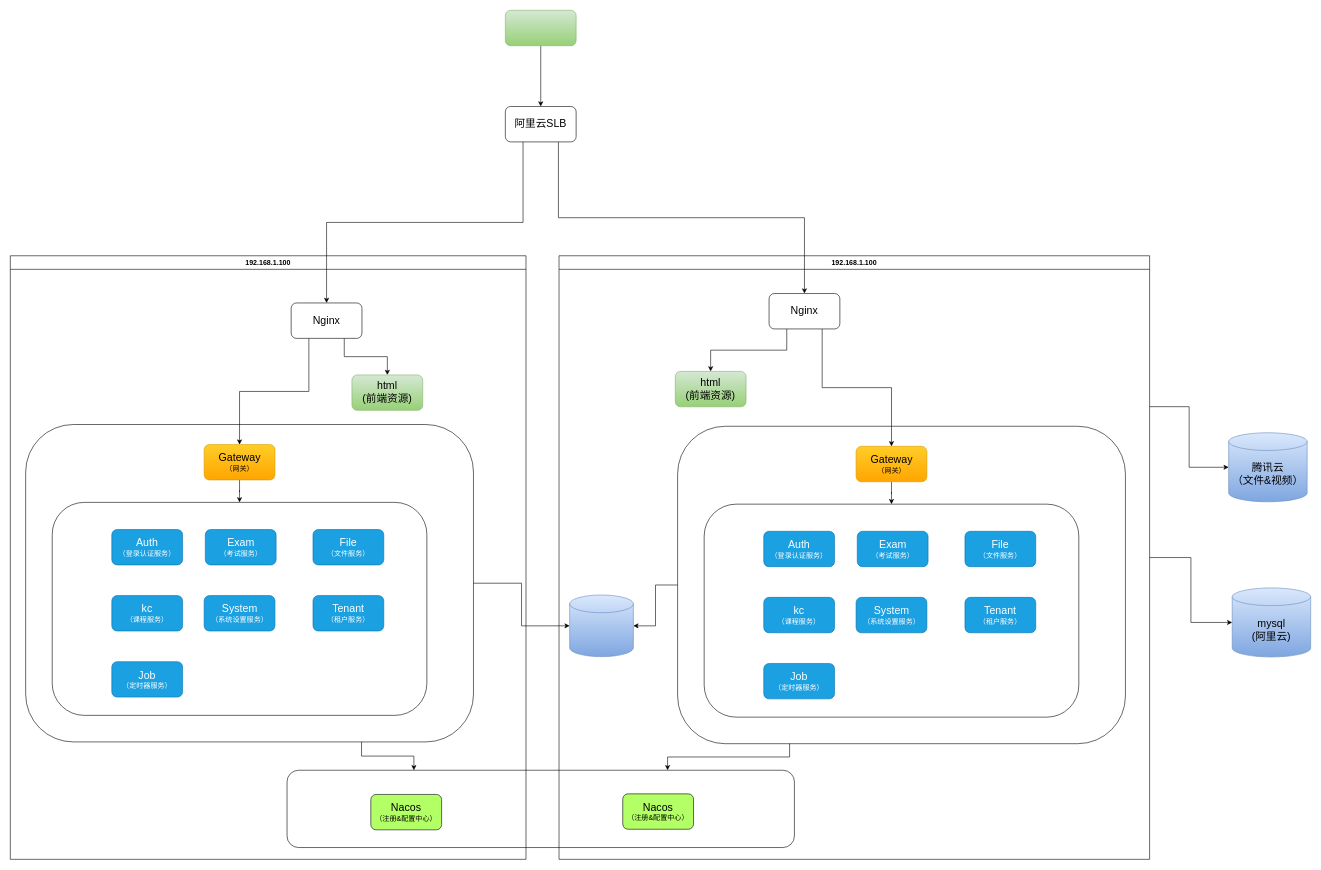
This 1321x870 diagram has some shape labels left out. The centre of each missing label's shape, as x and y in pixels:
redis: the point at 601,625
web客户端: the point at 540,28
